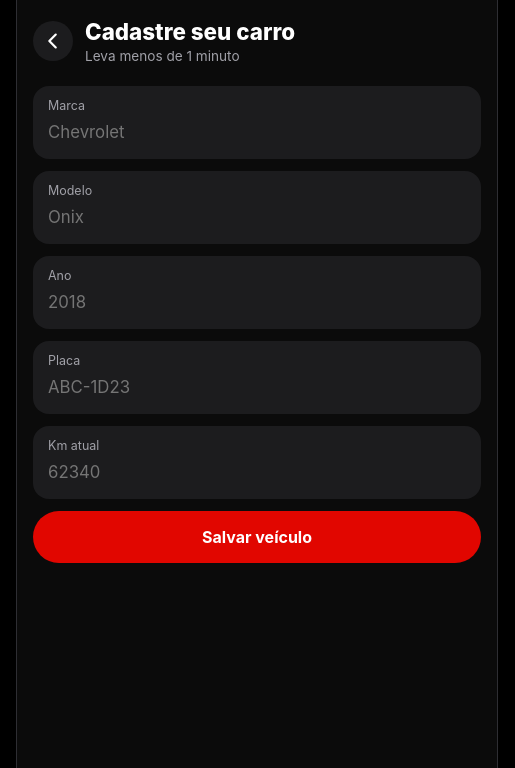
T01 · Cadastro do veículo › mostra o erro de cada campo devolvido pela API
Type "123" into the field labelled "Placa" at {"x": 257, "y": 388}, box [48,372,466,403]
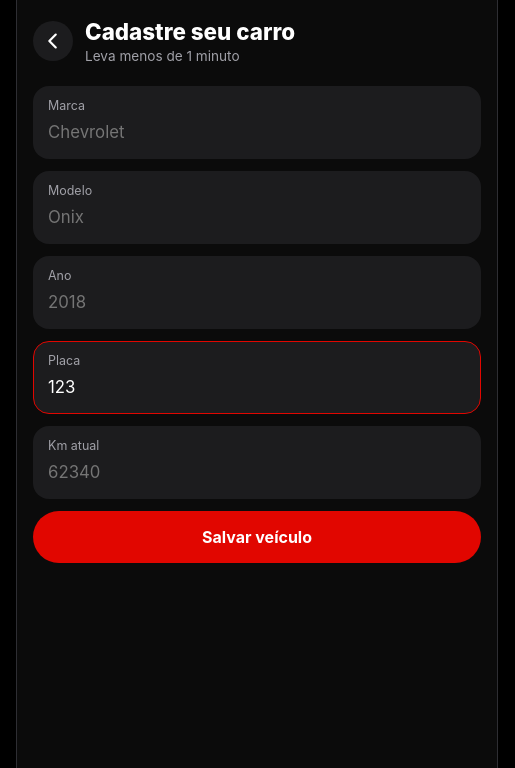
Click the button "Salvar veículo" at {"x": 257, "y": 537}, box [33,511,481,563]
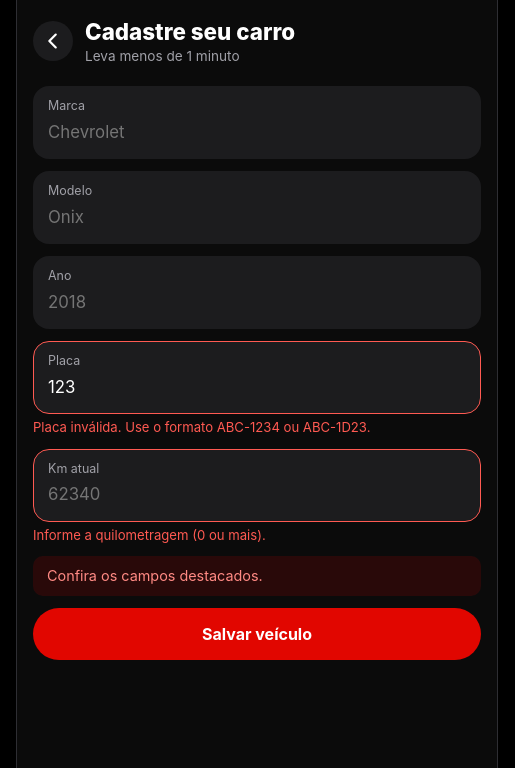
Result: the text "Placa inválida. Use o formato ABC-1234 ou ABC-1D23." is shown at [33,419,370,435]
Result: the text "Informe a quilometragem (0 ou mais)." is shown at [33,527,266,543]
Result: the text "Confira os campos destacados." is shown at [33,556,481,596]
